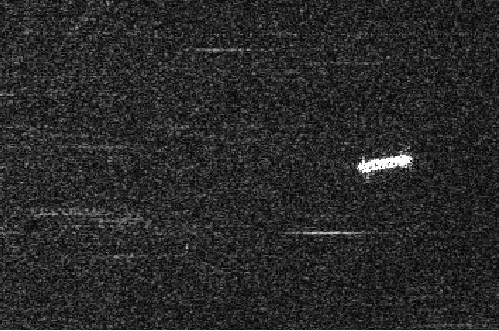ship: (355, 152, 416, 176)
